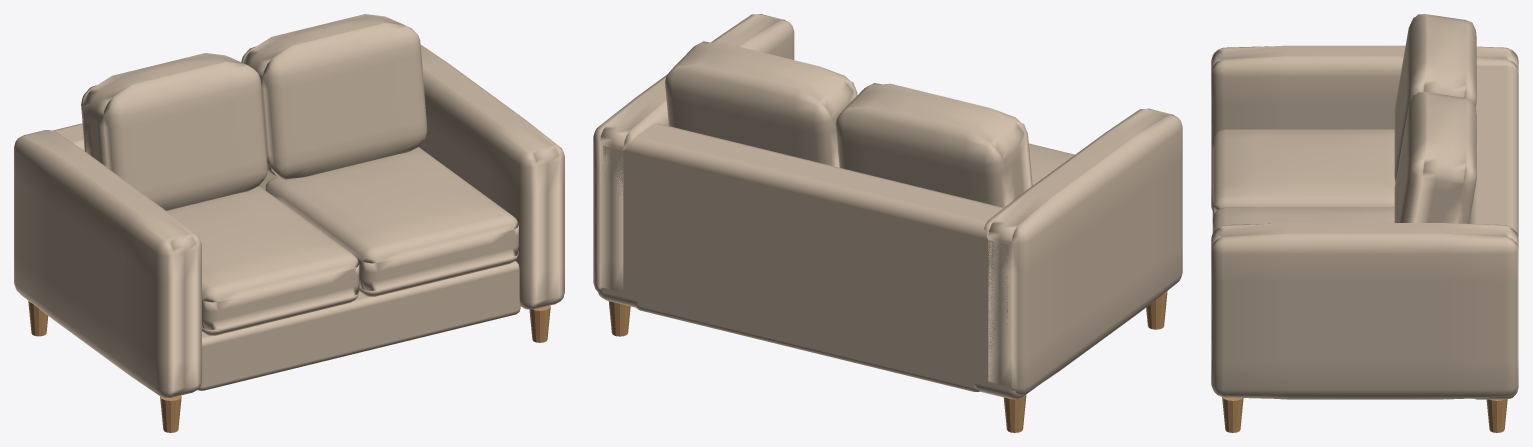
The model's file is sofa_2seat__w130.glb.
3 renders of one model, left to right at view 1: azimuth 30°, elevation 25°; view 2: azimuth 150°, elevation 25°; view 3: azimuth 270°, elevation 25°, orthographic. The views are drawn at different scales.
Visible parts, largest first — view 1: sofa_2seat__w130; view 2: sofa_2seat__w130; view 3: sofa_2seat__w130.
Part boxes in pixels (<box>): sofa_2seat__w130: <box>14,14,564,432</box>; sofa_2seat__w130: <box>593,14,1182,432</box>; sofa_2seat__w130: <box>1211,14,1518,432</box>.
Bounding box in the file's own units: 1.3 × 0.8 × 0.85.
